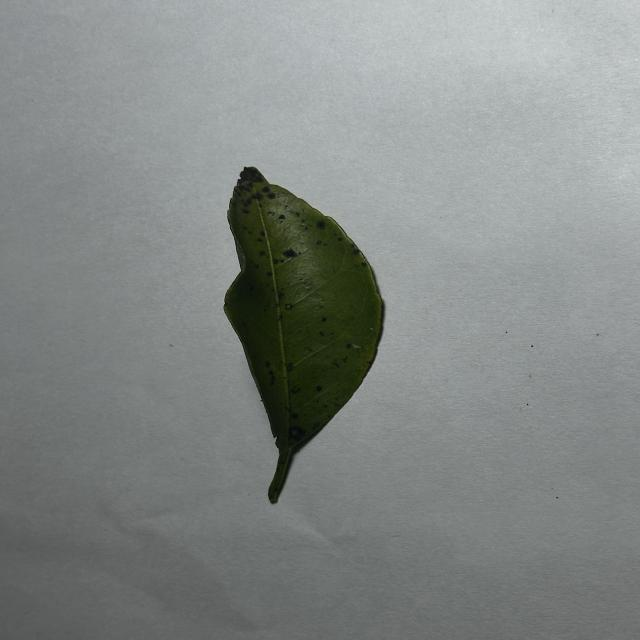sooty_mold: (224, 167, 382, 502)
